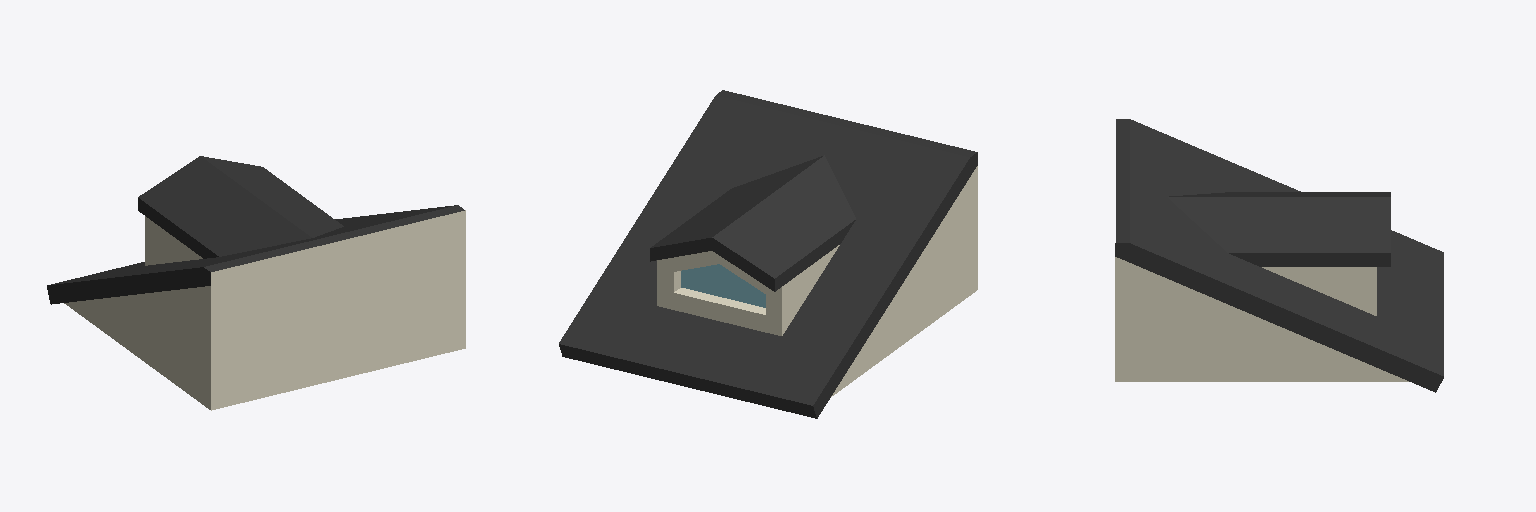
File: roof3.obj
3 views of the same model, side by side, from view 1: azimuth 30°, elevation 25°; view 2: azimuth 150°, elevation 25°; view 3: azimuth 270°, elevation 25° (orthographic).
Visible parts, largest first — view 1: roof3; view 2: roof3; view 3: roof3.
Boxes of the visible parts, x1=… form: roof3: x1=47, y1=156, x2=465, y2=410; roof3: x1=559, y1=90, x2=977, y2=418; roof3: x1=1115, y1=119, x2=1443, y2=392.
Size of the model in its own units: 1 by 0.5612 by 1.12.